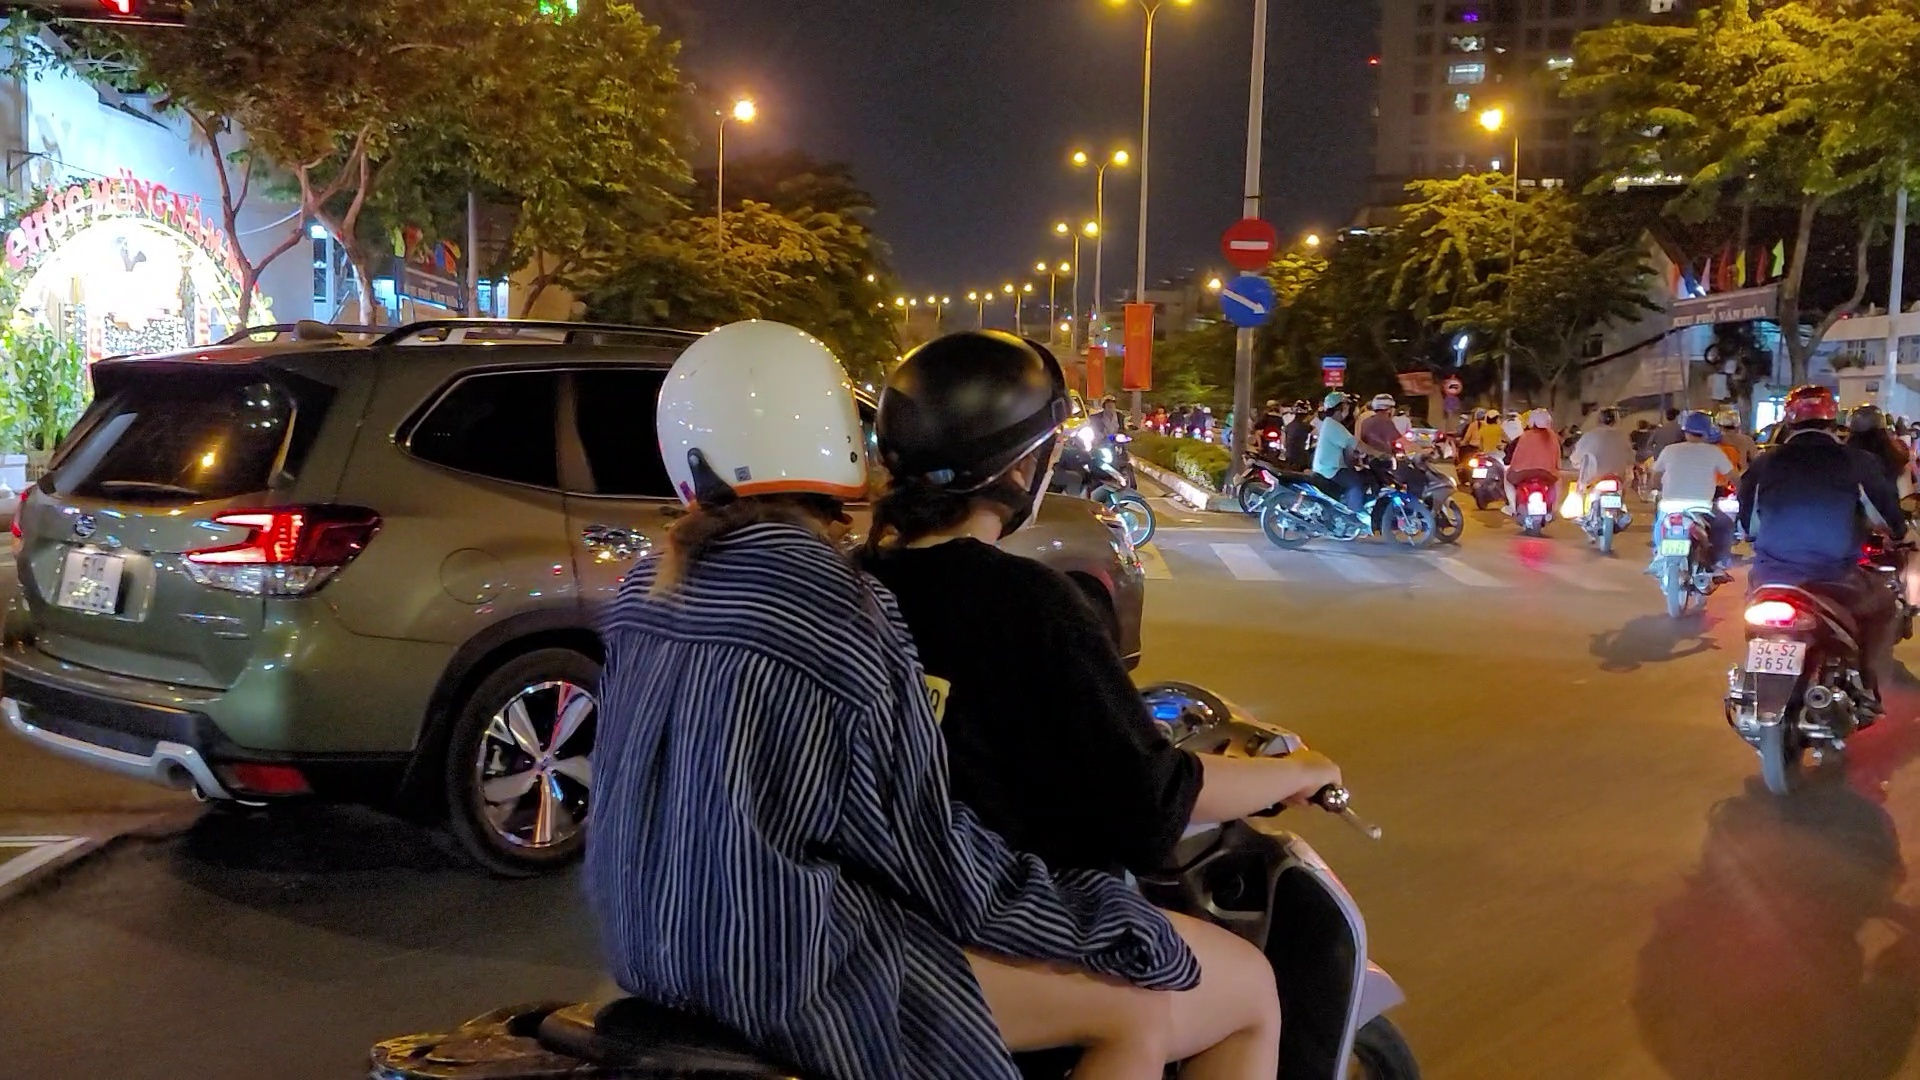Cam di nguoc chieu: (1224, 216, 1274, 272)
Huong di phai re phai: (1215, 273, 1275, 328)
